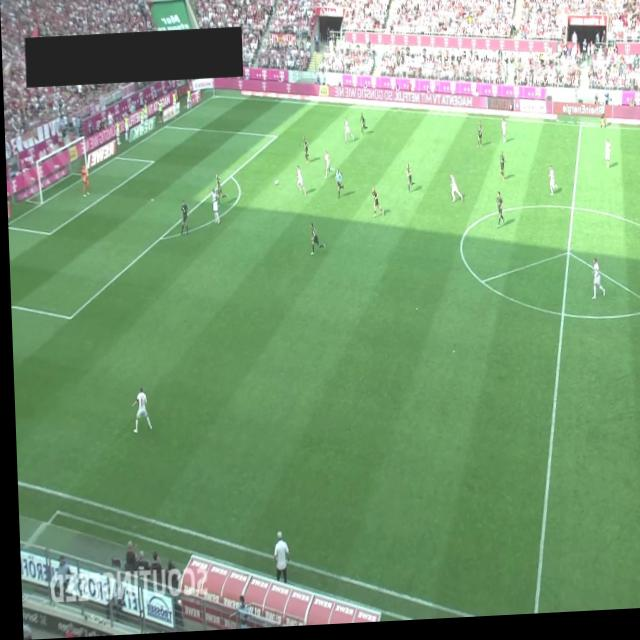goalkeeper: (79, 165, 88, 197)
player: (128, 386, 150, 435), (588, 263, 604, 306), (370, 190, 383, 222), (449, 178, 462, 207), (308, 225, 319, 258), (178, 201, 188, 237), (294, 167, 305, 199), (210, 190, 219, 227), (494, 197, 503, 233), (602, 145, 611, 176), (342, 121, 353, 146), (322, 154, 331, 182), (546, 171, 554, 201), (404, 165, 411, 198), (498, 156, 505, 187), (475, 125, 482, 153), (358, 116, 366, 139), (500, 122, 506, 149), (214, 177, 221, 200), (303, 145, 308, 166)
referee: (334, 171, 342, 202), (598, 108, 607, 134)
